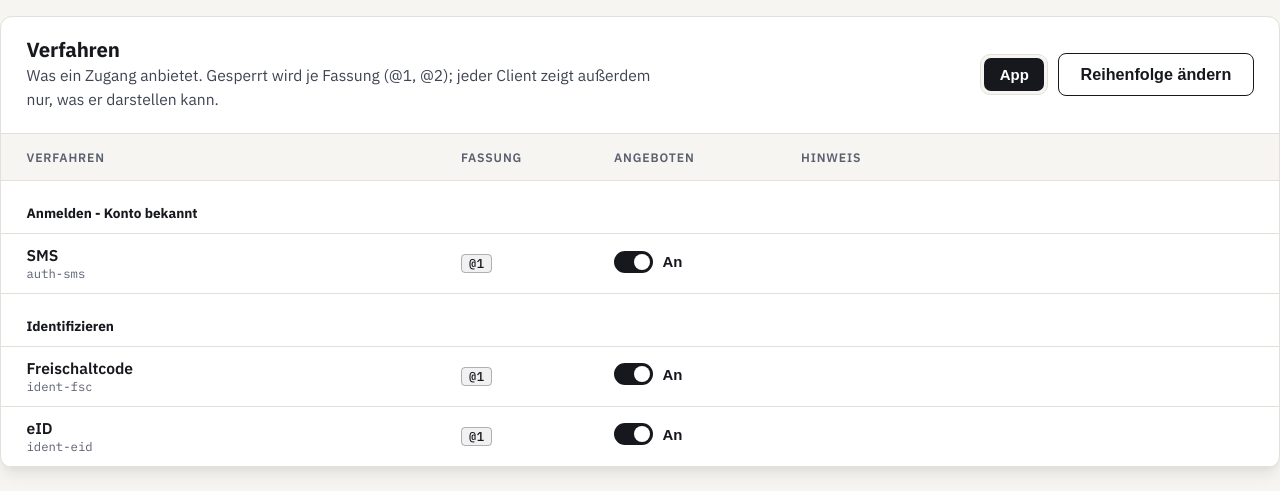
Test: AdminToolAvailabilityView › with tools of two roles in one channel › leaves out a role with a single tool, which has no order to set
Click the button "Reihenfolge ändern" at (1156,75), box x1=1058 y1=53 x2=1254 y2=96
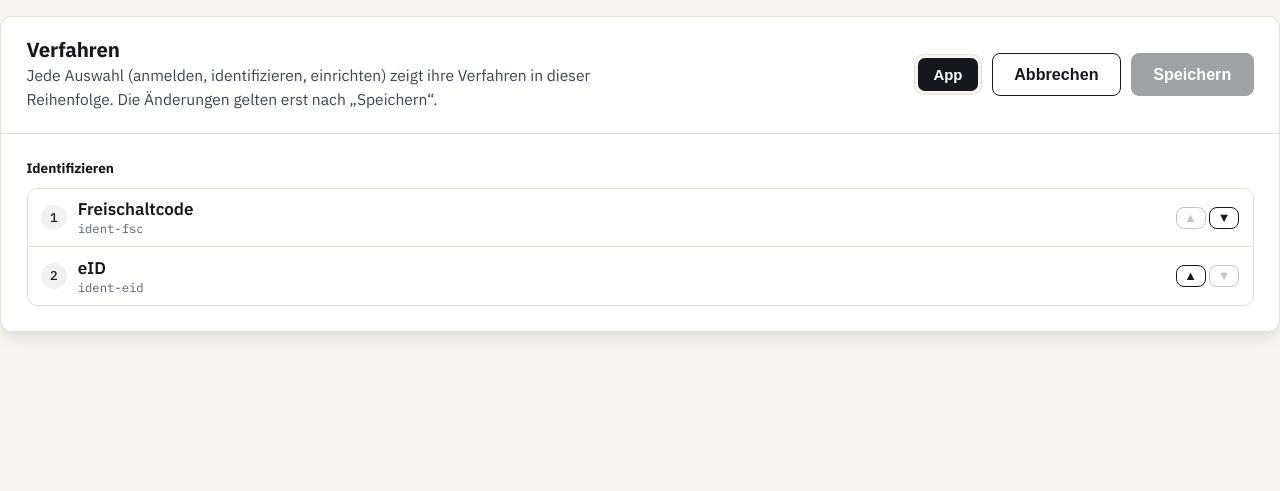
Expected: the button named "ident-eid nach oben" is shown, x1=1176 y1=265 x2=1206 y2=287
